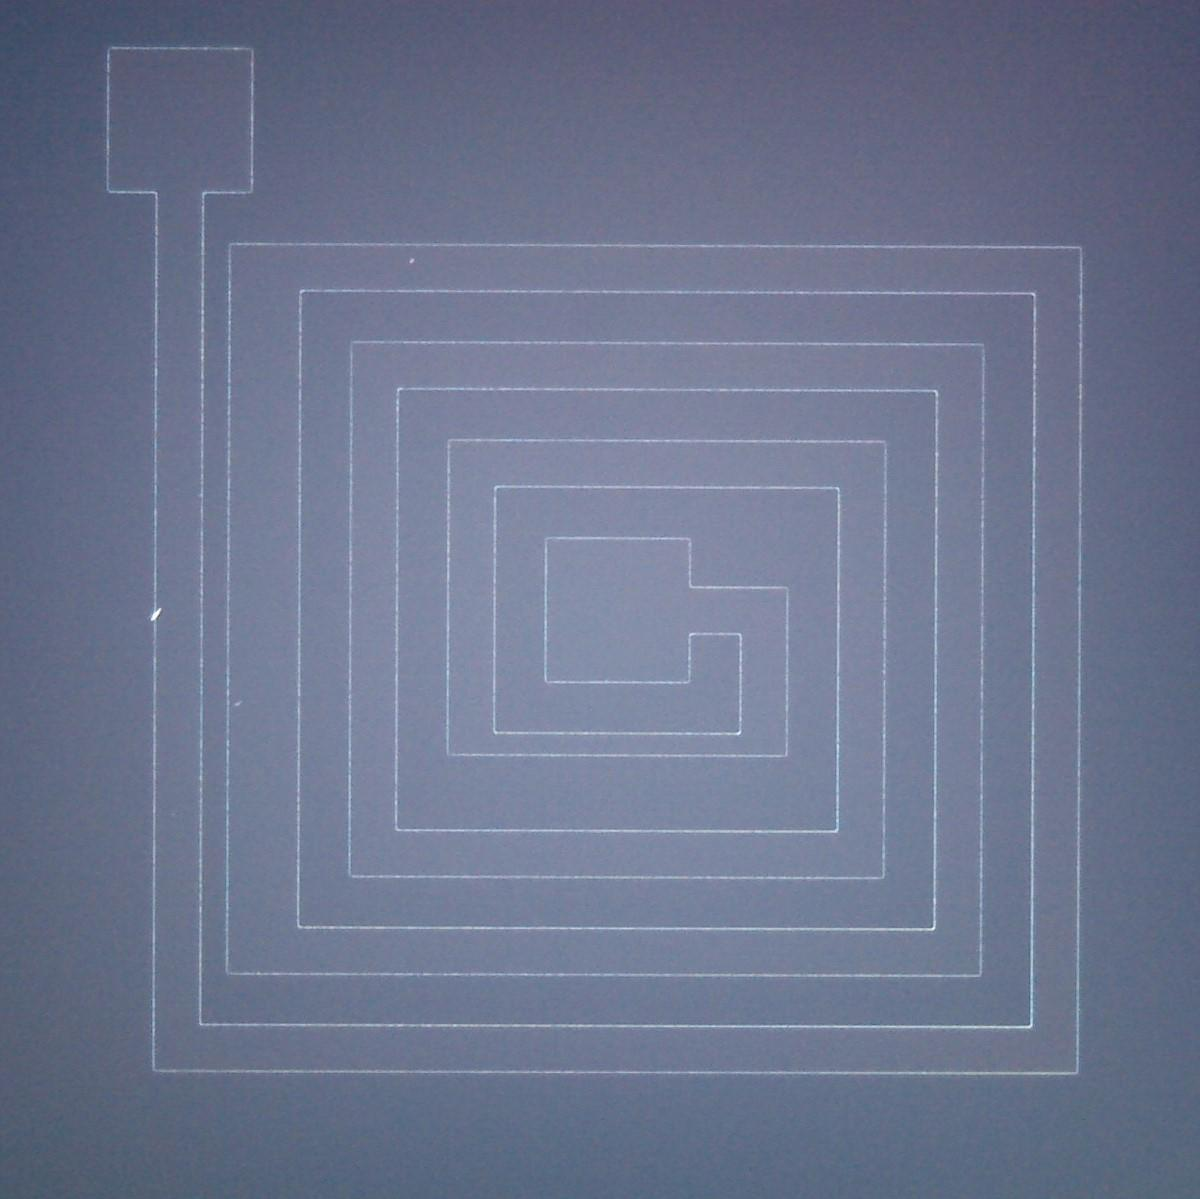B_point: (150, 607, 162, 623)
s_point: (407, 256, 417, 267), (232, 699, 243, 709)
width: (124, 224, 408, 990), (420, 590, 823, 901)
